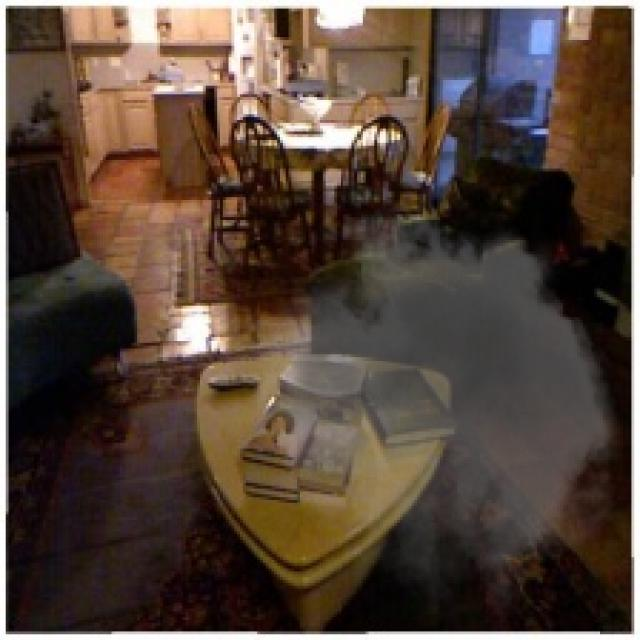smoke: (255, 192, 634, 617)
